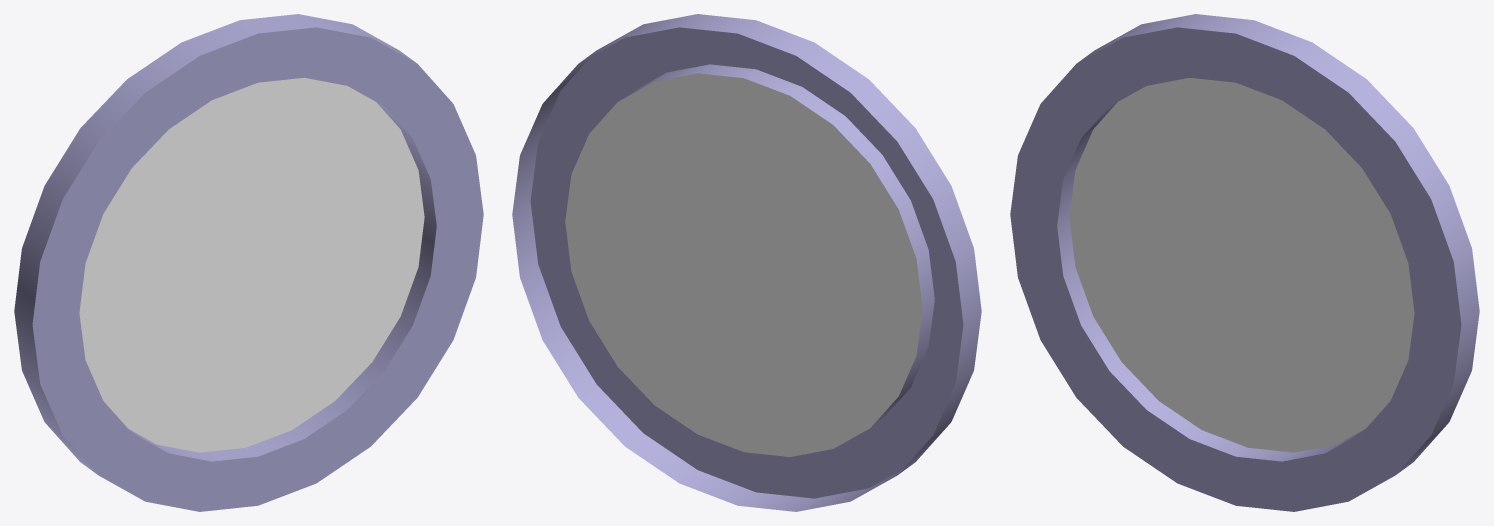
Rendered from window5.obj.
The picture shows the model from 3 angles, left to right: view 1: azimuth 30°, elevation 25°; view 2: azimuth 150°, elevation 25°; view 3: azimuth 330°, elevation 25°; orthographic projection.
Parts seen in each view (by area): view 1: mergedBlocks; view 2: mergedBlocks; view 3: mergedBlocks.
Part boxes in pixels (left/top/right/bottom): mergedBlocks: left=14, top=14, right=483, bottom=511; mergedBlocks: left=512, top=14, right=981, bottom=511; mergedBlocks: left=1010, top=14, right=1479, bottom=511.
Bounding box in the file's own units: 0.4277 × 0.4277 × 0.03.
